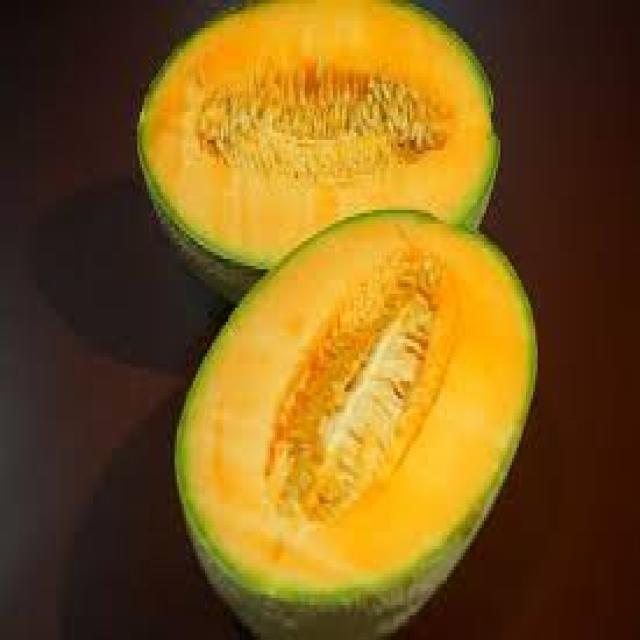cantaloupe: (174, 203, 540, 640), (137, 0, 502, 265)
